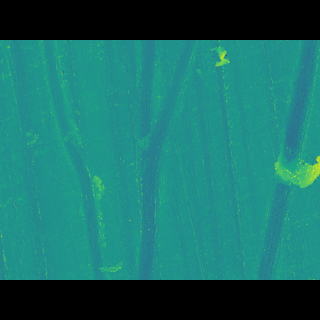Loch: (122, 68, 201, 251), (39, 69, 112, 249), (252, 67, 320, 250), (268, 149, 319, 181), (202, 71, 235, 92)
